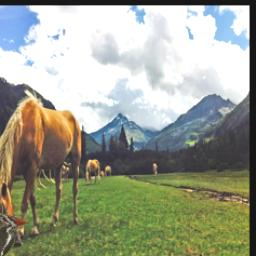Woodpecker: (0, 210, 29, 256)
